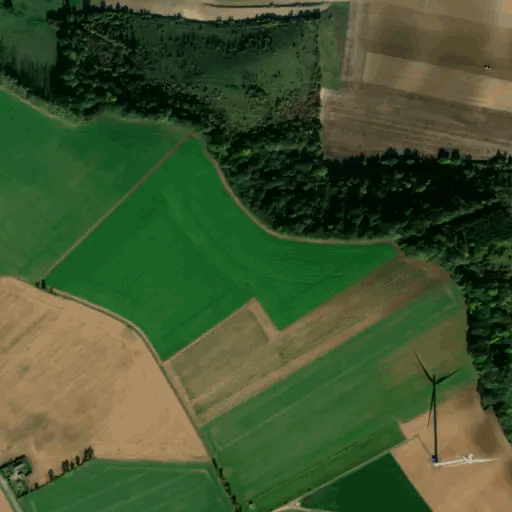wt: (401, 340, 496, 483)
